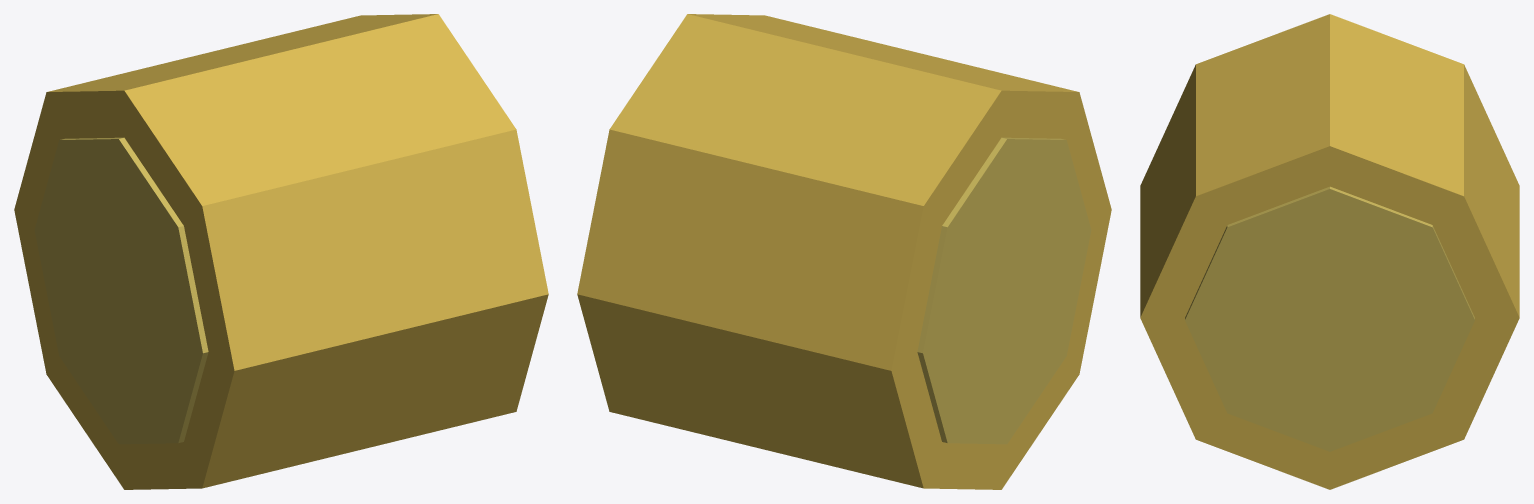
Rendered from fardo_feno.glb.
3 views of the same model, side by side, from view 1: azimuth 30°, elevation 25°; view 2: azimuth 150°, elevation 25°; view 3: azimuth 270°, elevation 25° (orthographic). The views are drawn at different scales.
Parts seen in each view (by area): view 1: corpo; view 2: corpo; view 3: corpo.
Boxes of the visible parts, x1,y1,x2,y2 form: corpo: (14,14,548,489); corpo: (577,14,1111,489); corpo: (1140,14,1519,489).
Bounding box in the file's own units: 0.29 × 0.34 × 0.34.
